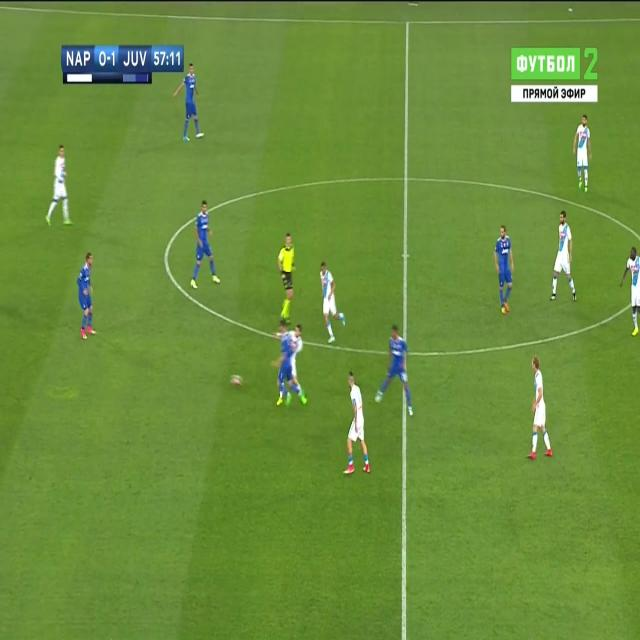Ball: (230, 368, 243, 392)
Player: (373, 323, 415, 417), (343, 370, 373, 480), (523, 356, 552, 465), (190, 199, 223, 293), (550, 211, 579, 308), (43, 142, 74, 230), (317, 261, 348, 348), (174, 61, 205, 143), (76, 251, 98, 342), (619, 246, 640, 341), (494, 226, 516, 314), (291, 322, 309, 408), (572, 110, 590, 194), (275, 322, 292, 410)
Referee: (276, 229, 298, 329)
